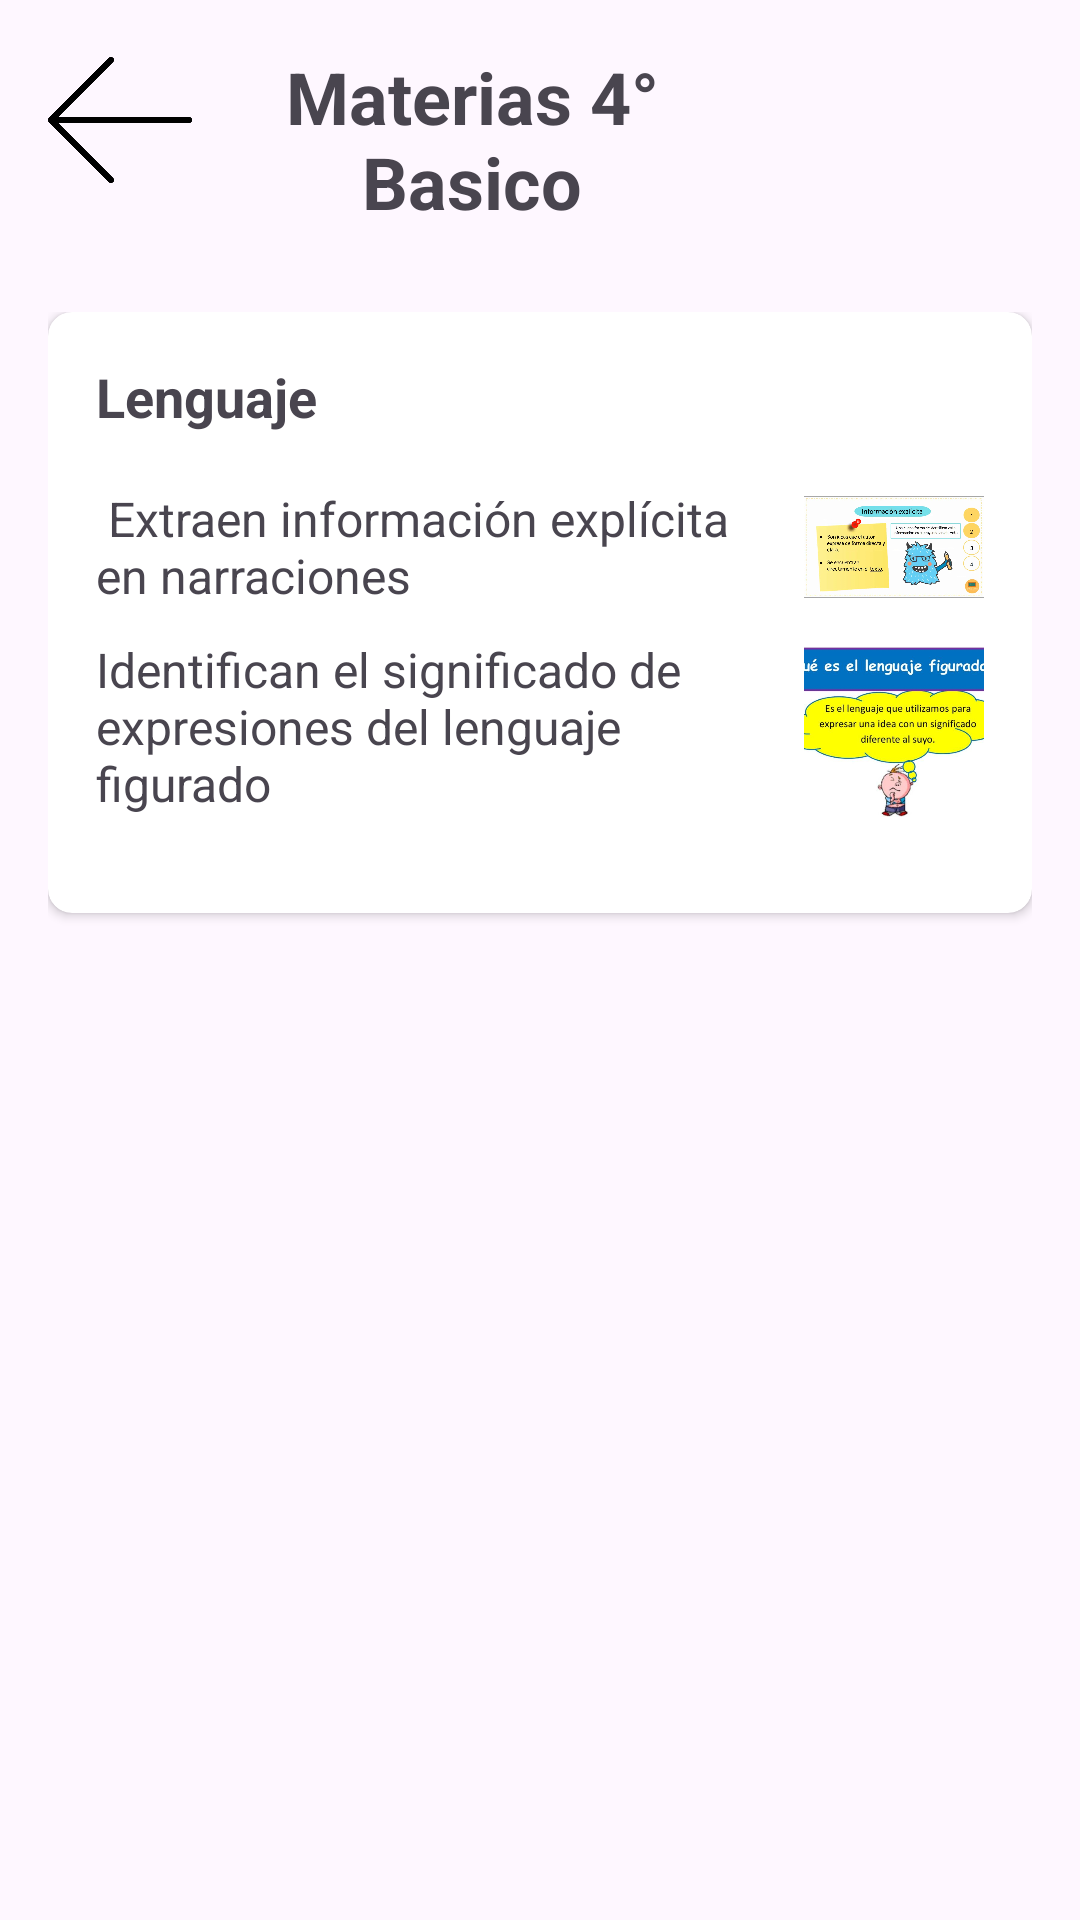

Screen size 1080x1920. Icon name, then its box in pixels as (x1, y1, x2, y2):
Botón de volver: (48, 57, 192, 183)
